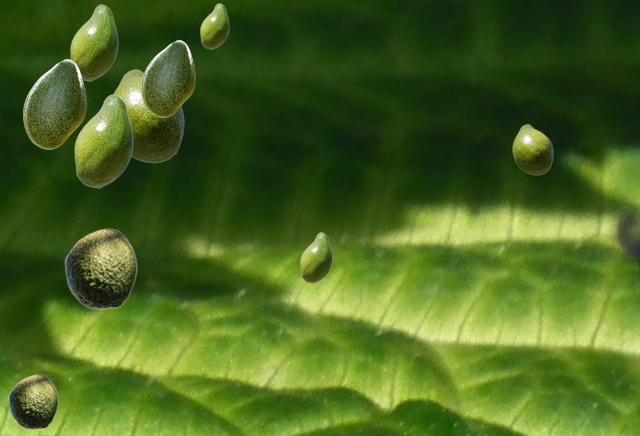avocado: (113, 69, 183, 162), (64, 228, 136, 308), (23, 59, 85, 148), (74, 94, 132, 187), (141, 40, 194, 116), (70, 4, 117, 80), (8, 374, 57, 428), (512, 124, 552, 174), (300, 232, 331, 282), (200, 3, 228, 48)
